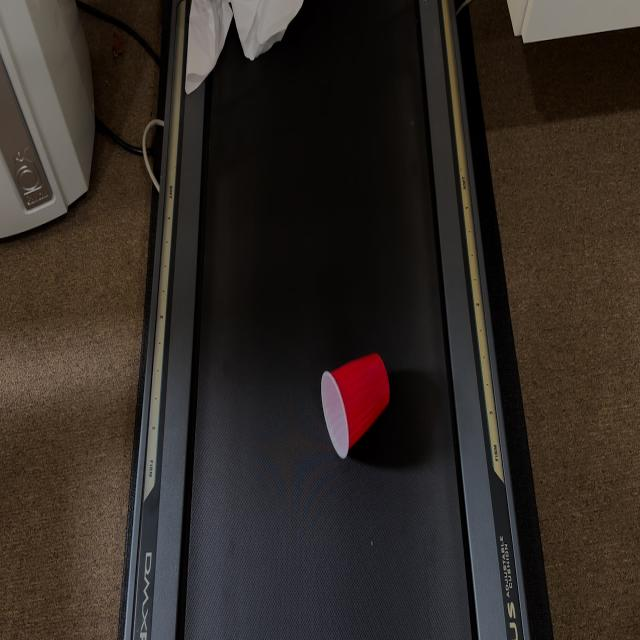Recycle: (183, 0, 307, 94), (318, 347, 394, 459)
